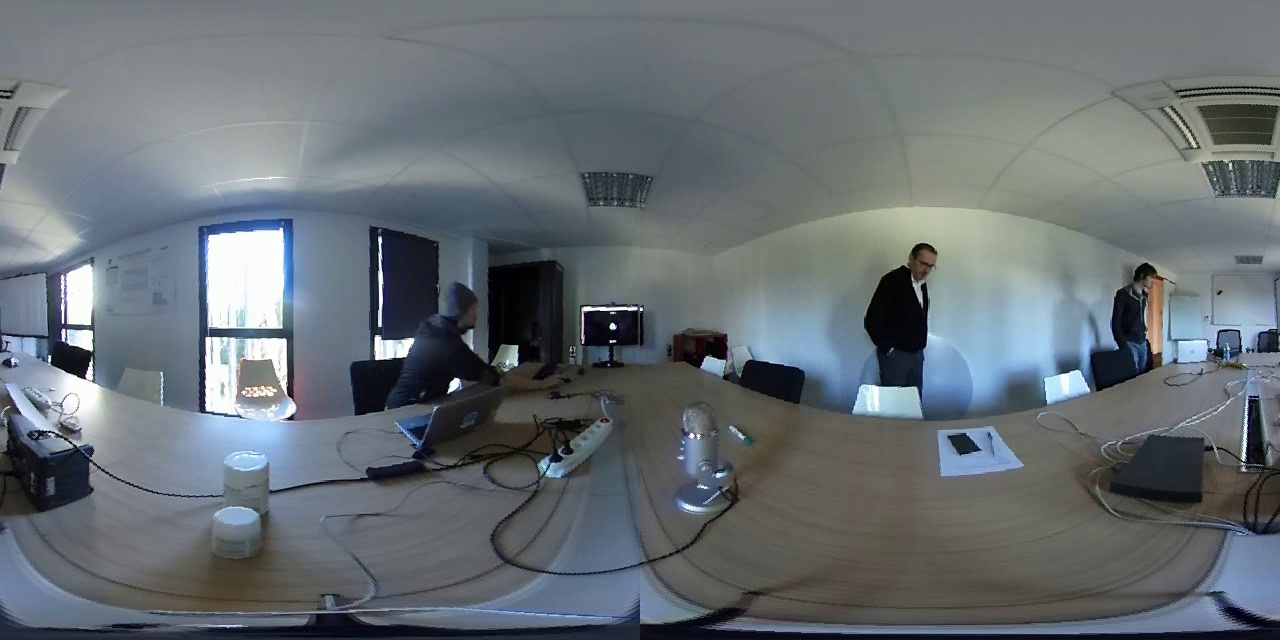person: (861, 234, 967, 400), (394, 271, 522, 389), (1108, 253, 1170, 359)
